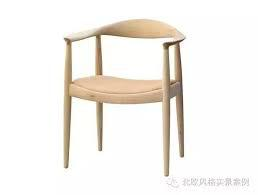chair: (44, 18, 202, 178)
